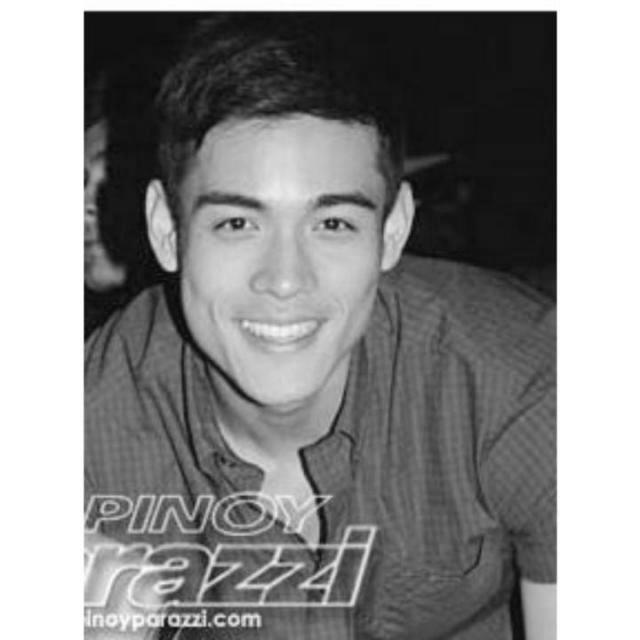real: (143, 62, 407, 411)
